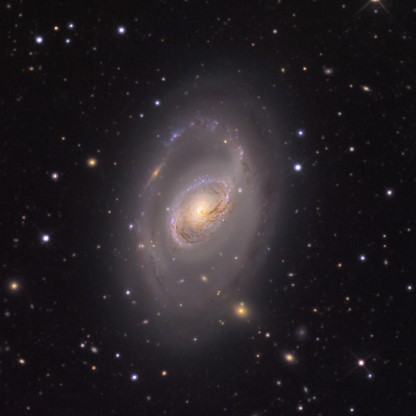Messier 96: (106, 67, 291, 361)
